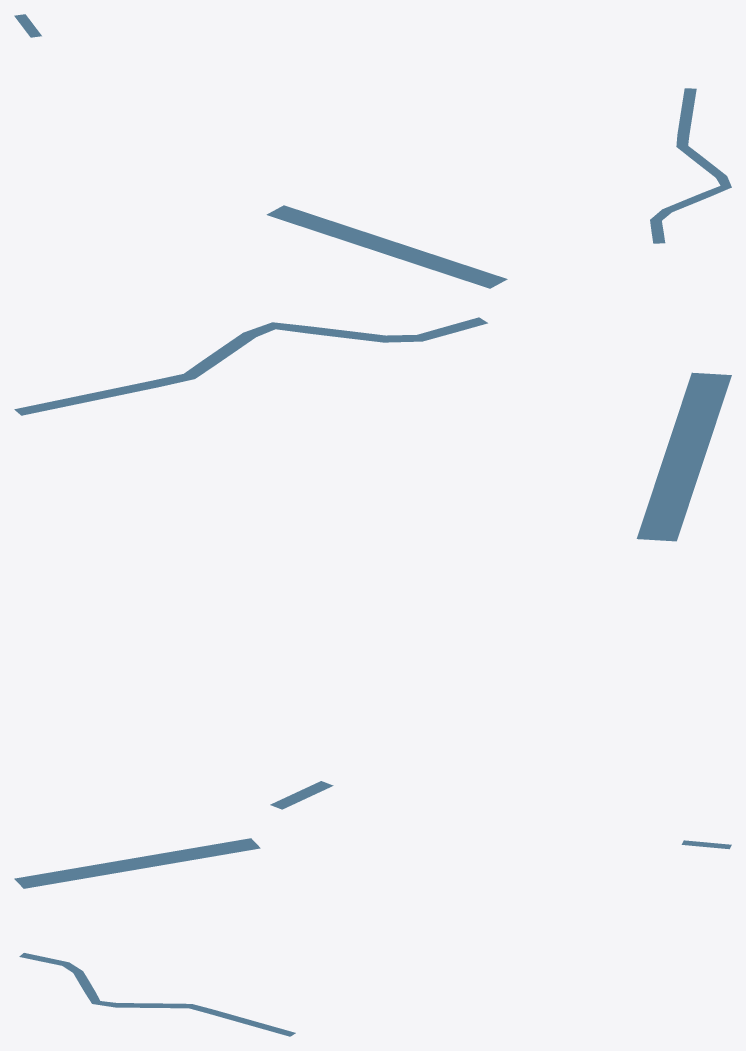
Rendered from c_1650_17833_water.glb.
The picture shows the model from 3 angles, top to bottom: view 1: azimuth 30°, elevation 25°; view 2: azimuth 150°, elevation 25°; view 3: azimuth 270°, elevation 25°; orthographic projection. The views are drawn at different scales.
Parts seen in each view (by area): view 1: geometry_0; view 2: geometry_0; view 3: geometry_0.
Part boxes in pixels (x1=…): geometry_0: x1=14, y1=14, x2=731, y2=288; geometry_0: x1=14, y1=317, x2=731, y2=809; geometry_0: x1=14, y1=838, x2=731, y2=1036.
Bounding box in the file's own units: 108 × 0 × 165.
